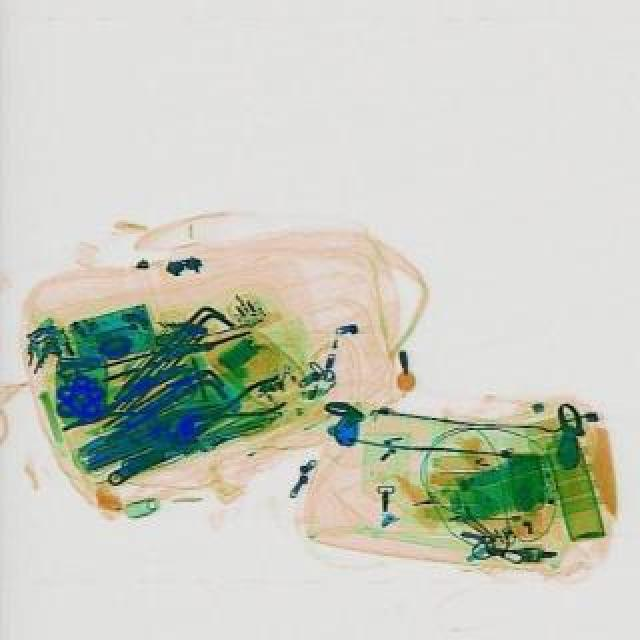scissors: (102, 406, 214, 490)
wrench: (52, 360, 200, 446), (188, 374, 290, 434)
